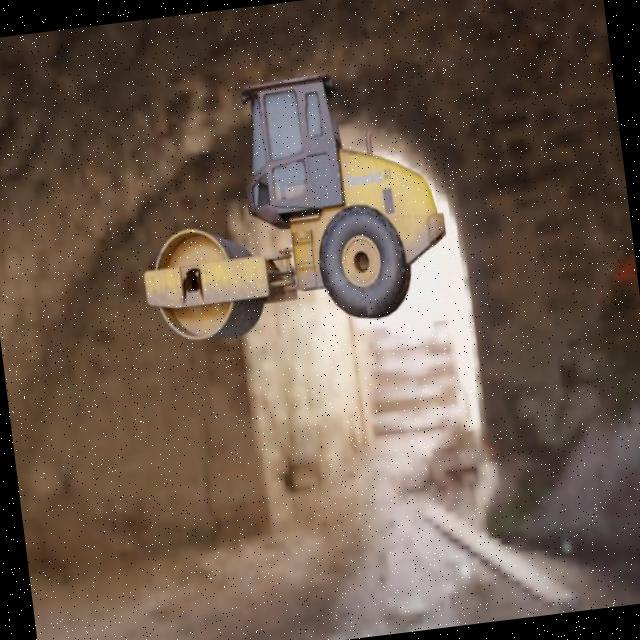Roller: (120, 59, 456, 348)
